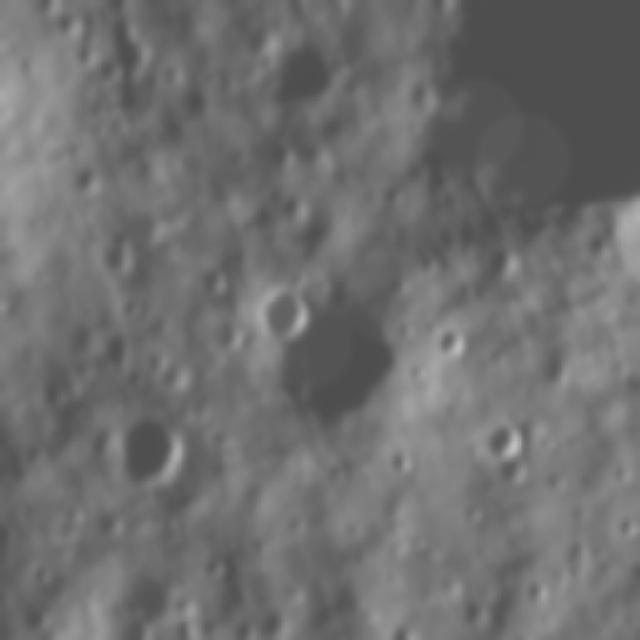crater: (398, 0, 640, 222), (266, 292, 428, 431), (100, 8, 180, 90), (116, 407, 193, 490), (273, 34, 338, 117), (260, 280, 314, 340), (120, 198, 172, 251), (202, 312, 250, 361), (482, 414, 524, 460), (191, 254, 234, 297), (98, 235, 137, 282), (431, 322, 471, 364), (482, 239, 523, 278), (69, 162, 108, 202), (97, 328, 134, 367), (274, 192, 312, 228), (255, 604, 293, 640), (88, 506, 127, 539), (490, 450, 530, 482), (268, 134, 295, 177), (457, 591, 489, 624), (609, 509, 640, 543), (379, 444, 413, 474), (111, 288, 143, 318), (227, 615, 261, 640), (524, 578, 551, 605), (146, 346, 172, 374), (28, 557, 52, 585), (204, 550, 224, 582), (328, 455, 350, 479), (388, 623, 419, 640), (0, 73, 11, 104)
